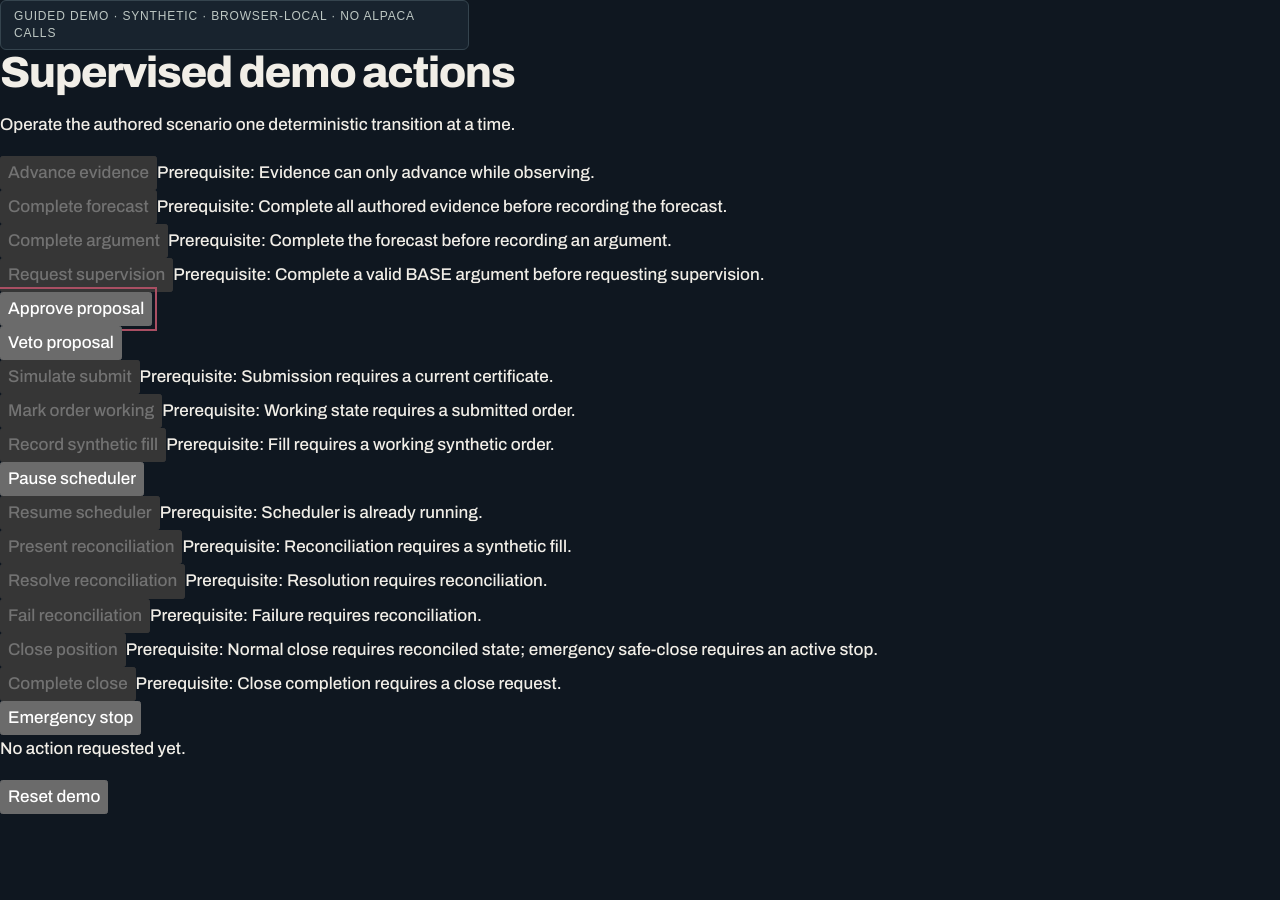
simulator components › opens a labelled confirmation dialog with initial focus and inert background
Step 1. Click the button "Approve proposal" → [76, 309], box 0,292 -> 152,326
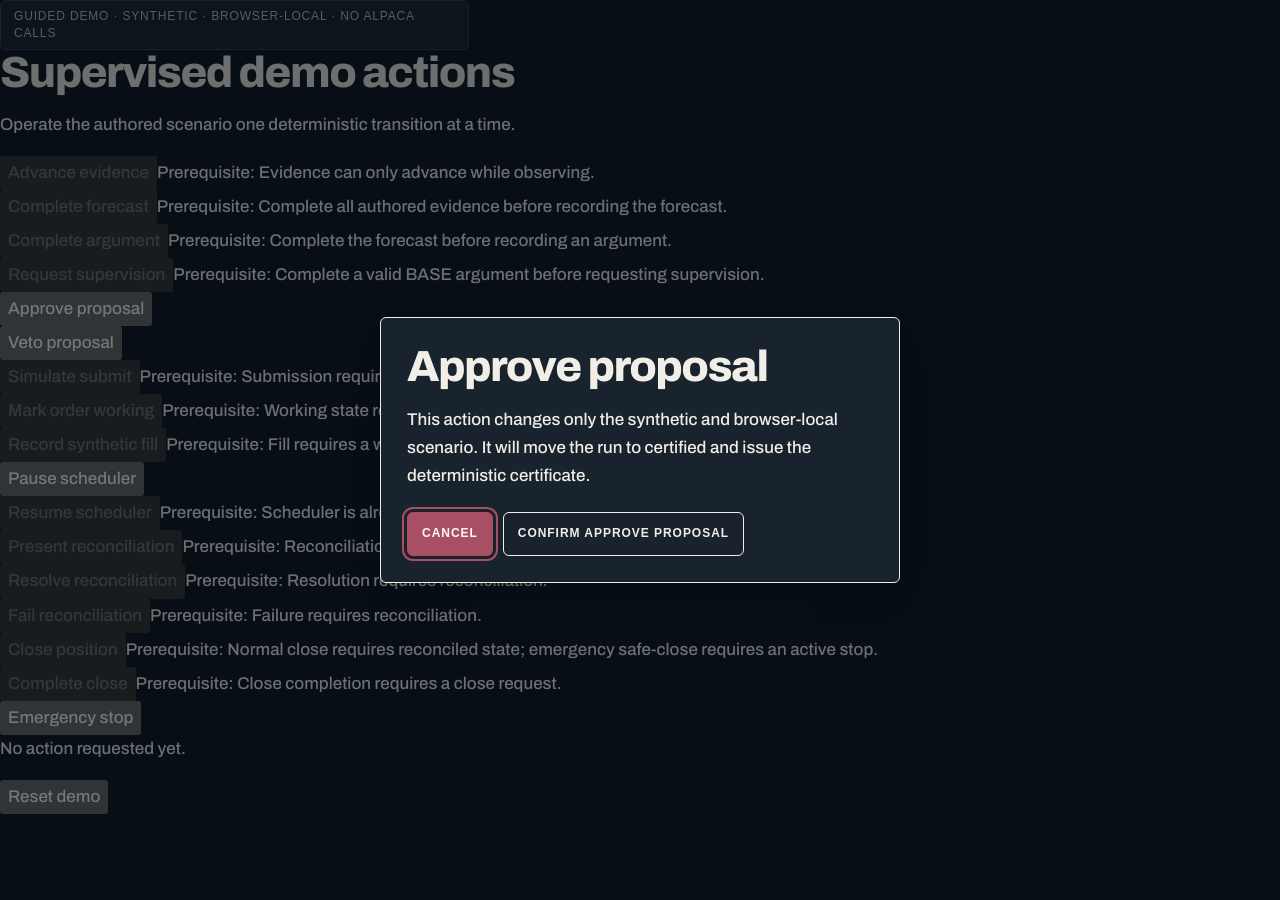
Expected: the heading "Approve proposal" is shown, 407,343 -> 767,390
Expected: the text "move the run to certified" is shown, 407,410 -> 838,485
